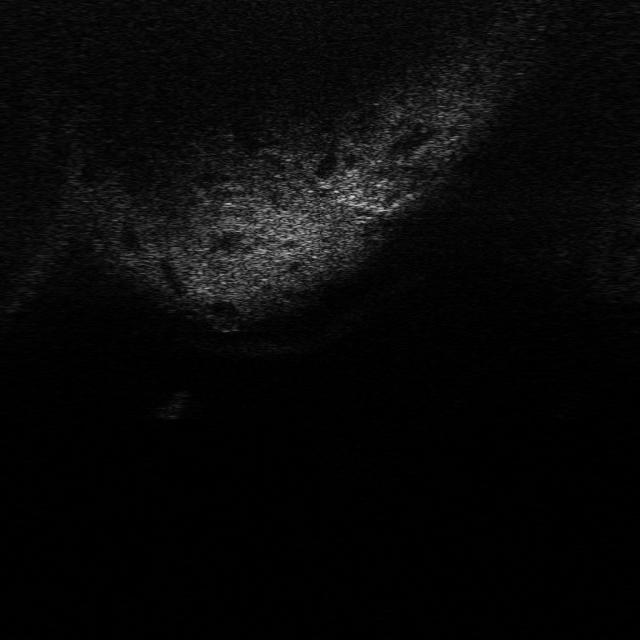cylinder: (158, 388, 188, 421)
